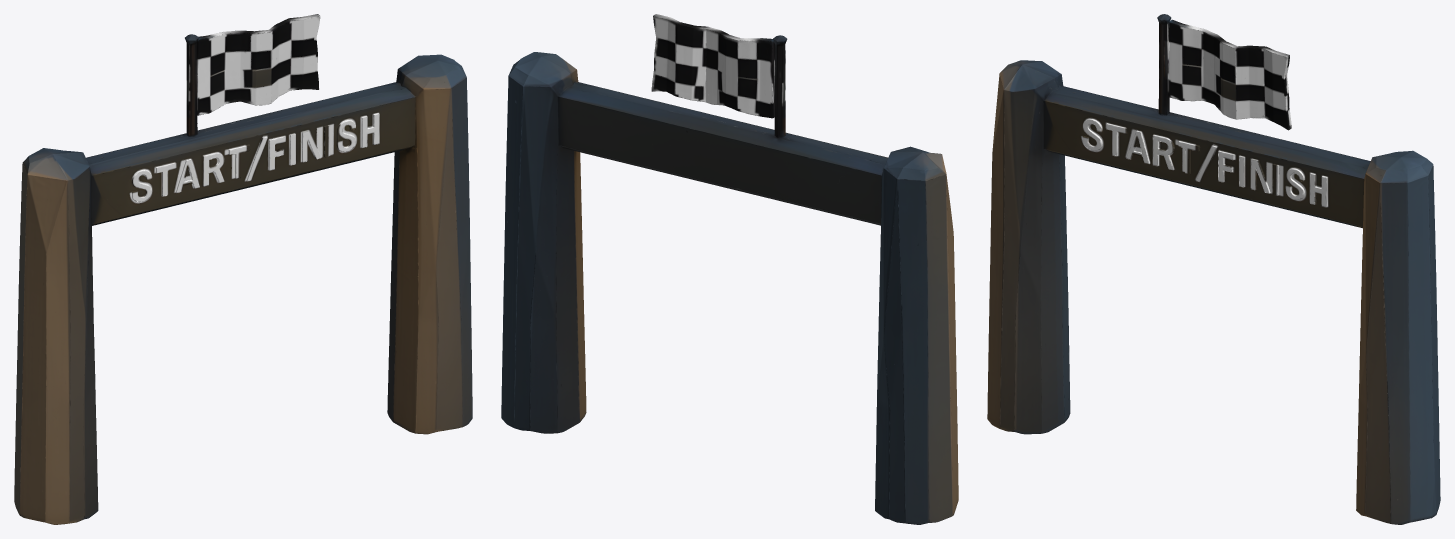
The model's file is start_gate.glb.
3 renders of one model, left to right at view 1: azimuth 30°, elevation 25°; view 2: azimuth 150°, elevation 25°; view 3: azimuth 330°, elevation 25°, orthographic.
Parts seen in each view (by area): view 1: node_0; view 2: node_0; view 3: node_0.
Boxes of the visible parts, <box> form: node_0: <box>14,14,472,524</box>; node_0: <box>501,14,958,524</box>; node_0: <box>987,14,1440,524</box>.
Bounding box in the file's own units: 0.8717 × 0.8216 × 0.1431.
Materials: 1 (1 with a texture image).
